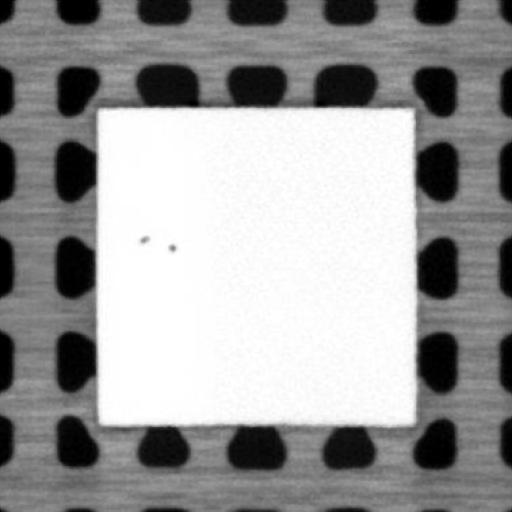DIE_INK: (136, 231, 150, 245), (167, 240, 176, 252)
